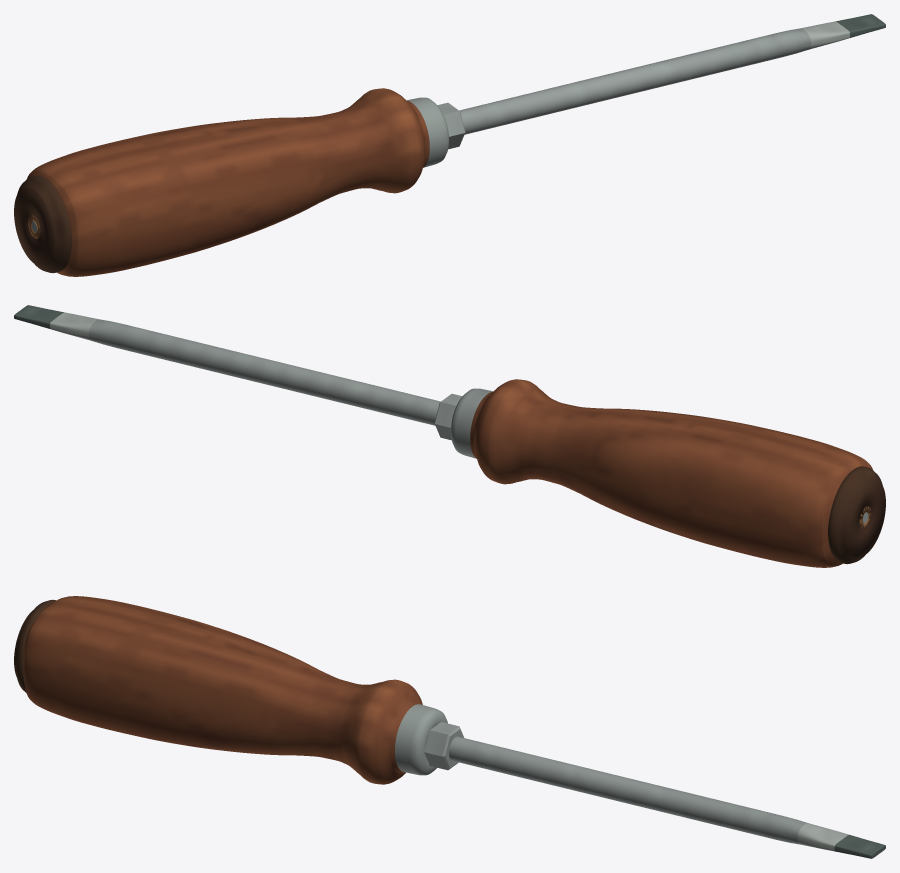
Rendered from Driver_Model.fbx.
3 views of the same model, one above another, from view 1: azimuth 30°, elevation 25°; view 2: azimuth 150°, elevation 25°; view 3: azimuth 330°, elevation 25° (orthographic).
Parts seen in each view (by area): view 1: TT_Driver_M46_Screwdriver__R03_Handle_Ergonomic_AntiRoll, TT_Driver_M46_Screwdriver__R03_Blade_Round_Shaft_To_Ground_W, TT_Driver_M46_Screwdriver__R03_Leather_End_Cap, TT_Driver_M46_Screwdriver__R03_Ferrule_Rolled_Lip_And_Should, TT_Driver_M46_Screwdriver__R03_Forged_Hex_Bolster; view 2: TT_Driver_M46_Screwdriver__R03_Handle_Ergonomic_AntiRoll, TT_Driver_M46_Screwdriver__R03_Blade_Round_Shaft_To_Ground_W, TT_Driver_M46_Screwdriver__R03_Leather_End_Cap, TT_Driver_M46_Screwdriver__R03_Ferrule_Rolled_Lip_And_Should, TT_Driver_M46_Screwdriver__R03_Forged_Hex_Bolster; view 3: TT_Driver_M46_Screwdriver__R03_Handle_Ergonomic_AntiRoll, TT_Driver_M46_Screwdriver__R03_Blade_Round_Shaft_To_Ground_W, TT_Driver_M46_Screwdriver__R03_Ferrule_Rolled_Lip_And_Should, TT_Driver_M46_Screwdriver__R03_Forged_Hex_Bolster, TT_Driver_M46_Screwdriver__R03_Leather_End_Cap.
Boxes of the visible parts, bbox=[...] form: TT_Driver_M46_Screwdriver__R03_Handle_Ergonomic_AntiRoll: bbox=[27, 88, 429, 276]; TT_Driver_M46_Screwdriver__R03_Blade_Round_Shaft_To_Ground_W: bbox=[459, 14, 885, 134]; TT_Driver_M46_Screwdriver__R03_Leather_End_Cap: bbox=[14, 175, 71, 273]; TT_Driver_M46_Screwdriver__R03_Ferrule_Rolled_Lip_And_Should: bbox=[407, 97, 449, 167]; TT_Driver_M46_Screwdriver__R03_Forged_Hex_Bolster: bbox=[437, 102, 465, 149]; TT_Driver_M46_Screwdriver__R03_Handle_Ergonomic_AntiRoll: bbox=[470, 379, 872, 567]; TT_Driver_M46_Screwdriver__R03_Blade_Round_Shaft_To_Ground_W: bbox=[14, 305, 440, 425]; TT_Driver_M46_Screwdriver__R03_Leather_End_Cap: bbox=[828, 466, 885, 564]; TT_Driver_M46_Screwdriver__R03_Ferrule_Rolled_Lip_And_Should: bbox=[450, 388, 492, 458]; TT_Driver_M46_Screwdriver__R03_Forged_Hex_Bolster: bbox=[434, 393, 462, 440]; TT_Driver_M46_Screwdriver__R03_Handle_Ergonomic_AntiRoll: bbox=[23, 596, 422, 784]; TT_Driver_M46_Screwdriver__R03_Blade_Round_Shaft_To_Ground_W: bbox=[449, 736, 885, 858]; TT_Driver_M46_Screwdriver__R03_Ferrule_Rolled_Lip_And_Should: bbox=[395, 704, 447, 775]; TT_Driver_M46_Screwdriver__R03_Forged_Hex_Bolster: bbox=[424, 722, 464, 770]; TT_Driver_M46_Screwdriver__R03_Leather_End_Cap: bbox=[14, 599, 56, 692].
Bounding box in the file's own units: 120 × 14.48 × 15.32.
6 materials, 6 textured.
